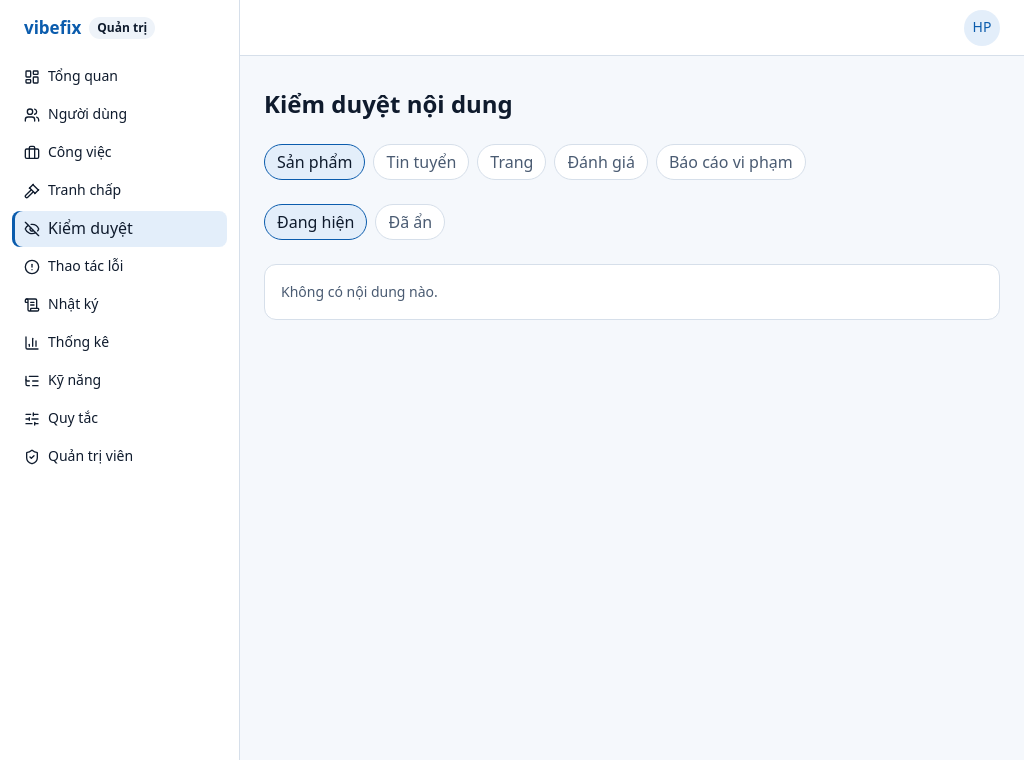
Test: ADM-6 moderation (FR-60) › works an Abuse Report on a Crew Chat message through its one-message grant
The width and height of the screenshot is (1024, 760).
Click the tab "Báo cáo vi phạm". click: [731, 162]
box: [656, 144, 806, 180]
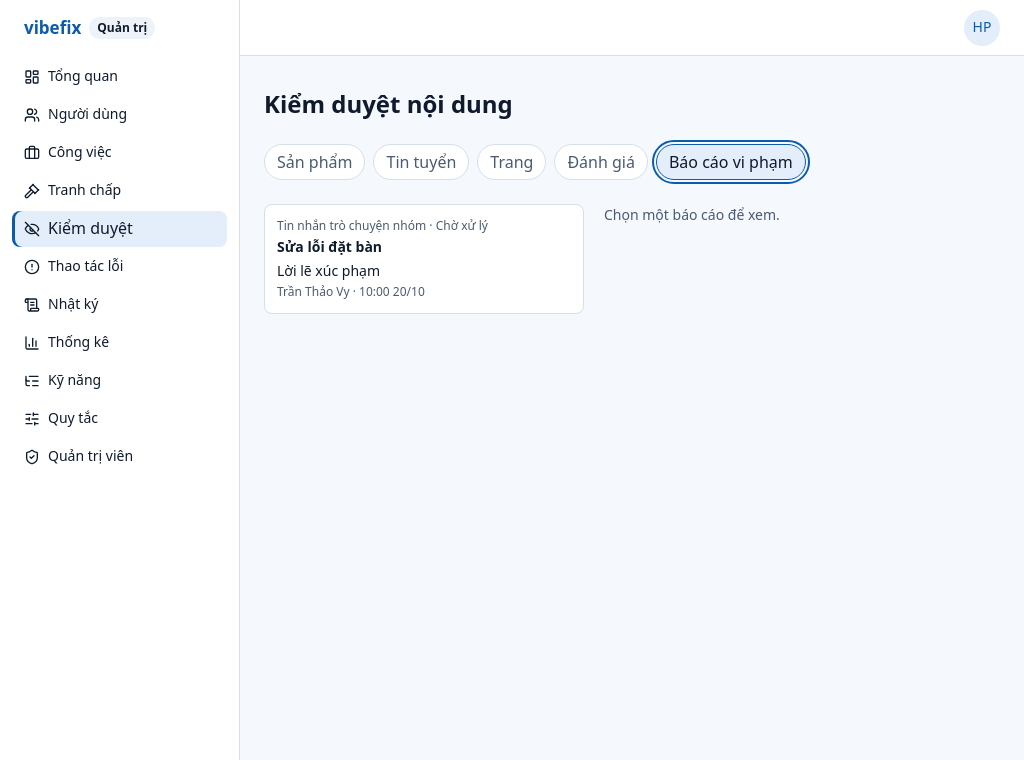
Click the button "Lời lẽ xúc phạm". click: [352, 226]
box: [264, 204, 584, 314]
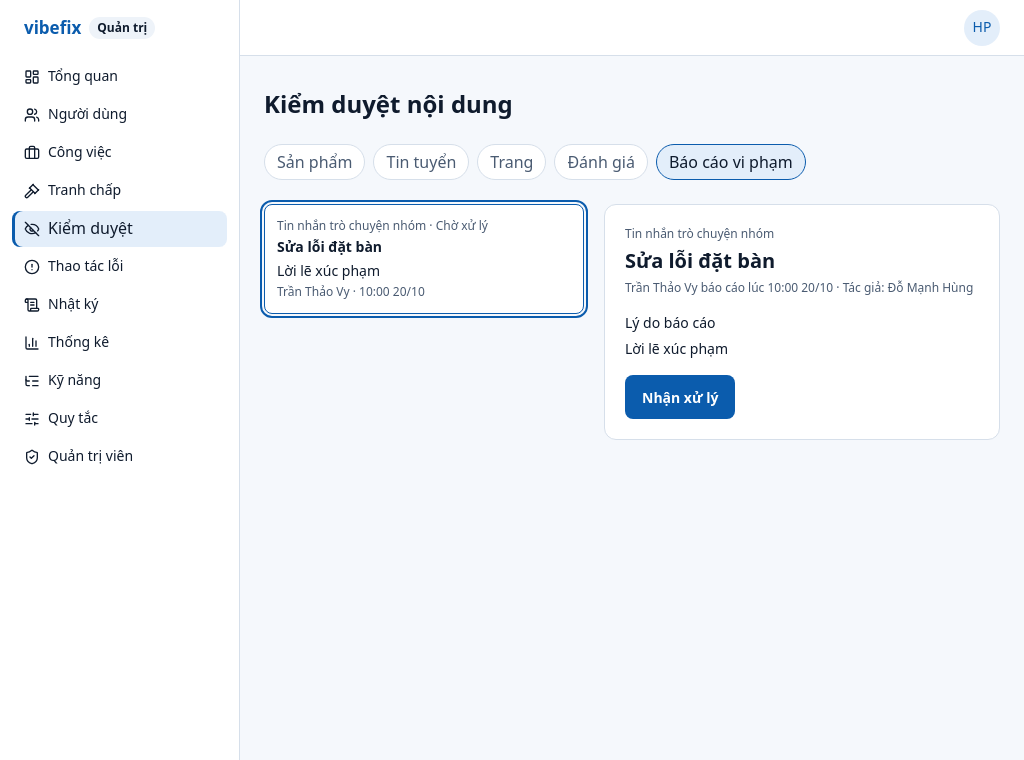
Expected: the text "Nội dung tin nhắn bị báo cáo" is not shown
Click the button "Nhận xử lý". click: [680, 397]
box: [625, 375, 736, 419]
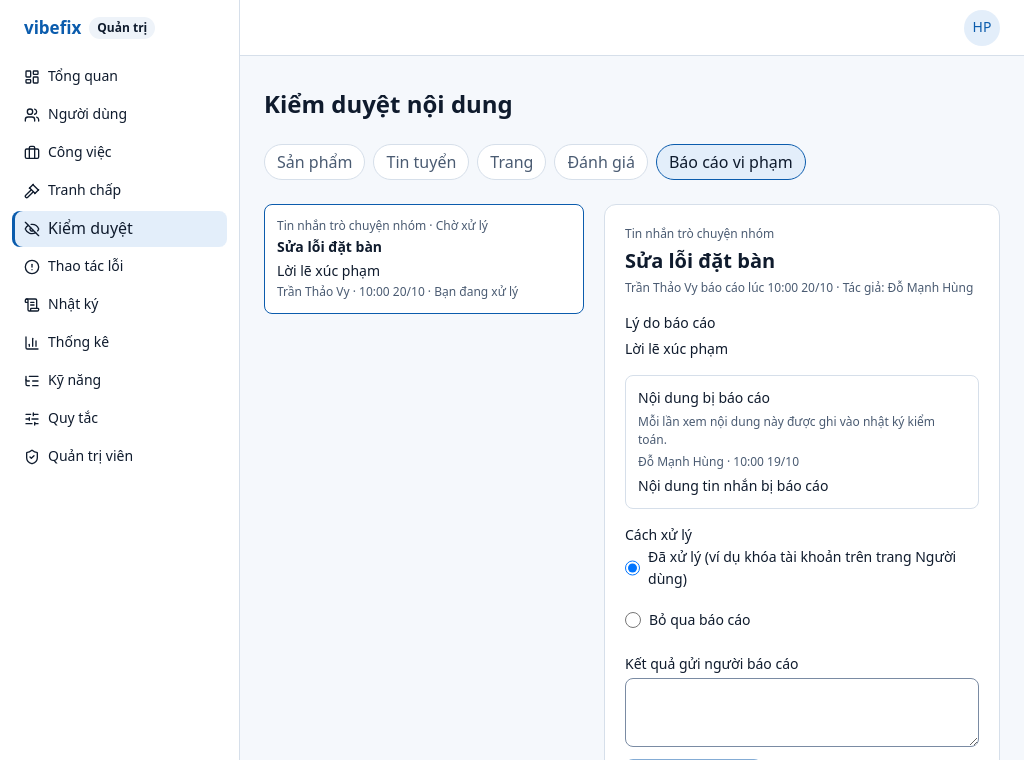
Expected: the text "Nội dung tin nhắn bị báo cáo" is shown, [638, 476, 828, 495]
Expected: the text "Mỗi lần xem nội dung này được ghi vào nhật ký kiểm toán." is shown, [638, 413, 966, 449]
Click the radio button labelled "Đã xử lý (ví dụ khóa tài khoản trên trang Người dùng)". click: [633, 568]
box: [625, 560, 640, 576]
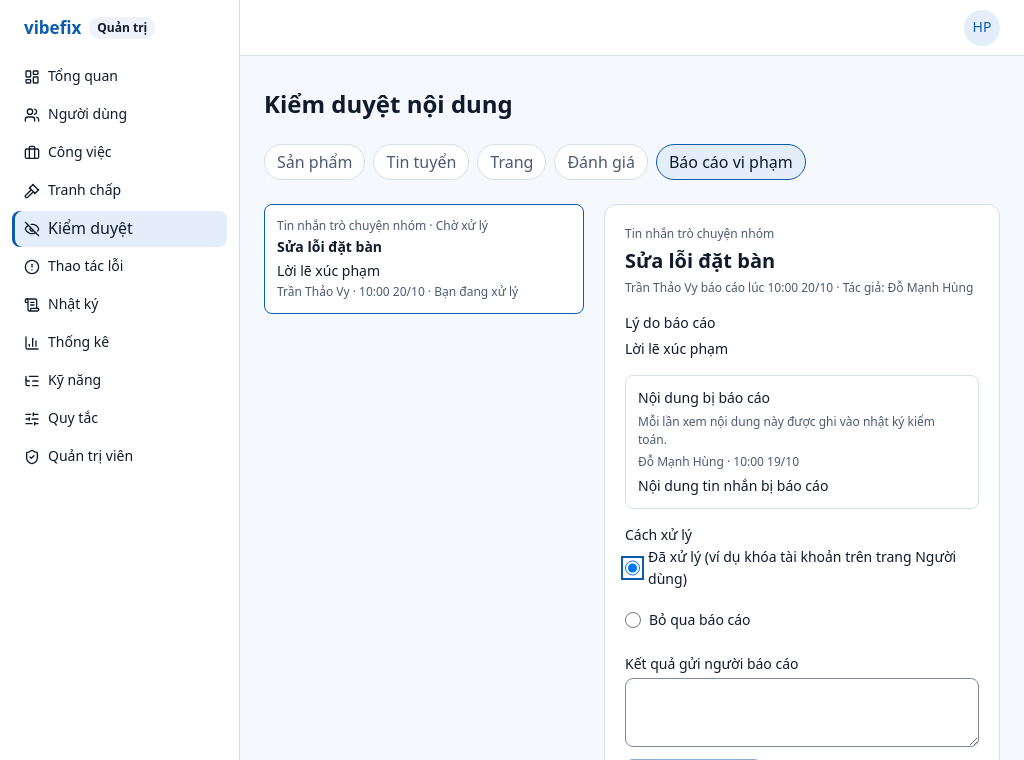
Type "Đã khóa tài khoản" into the text box labelled "Kết quả gửi người báo cáo". click: [802, 713]
box: [625, 678, 979, 747]
(page scrolled)
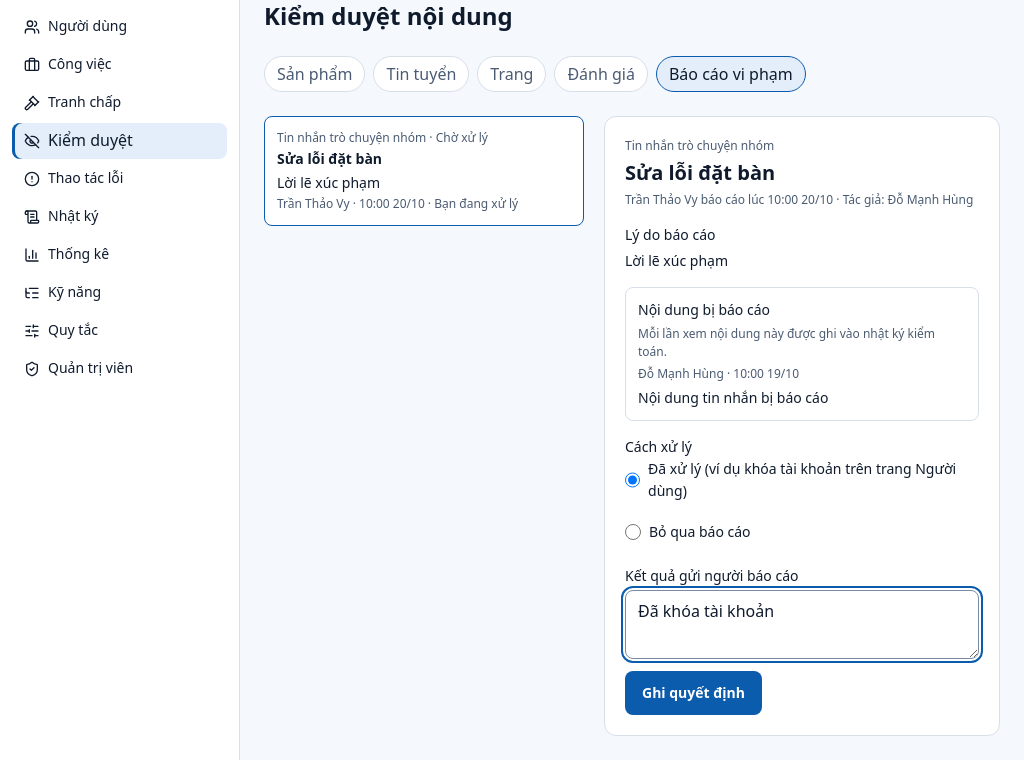
Click the button "Ghi quyết định". click: [694, 693]
box: [625, 671, 762, 715]
(page scrolled)
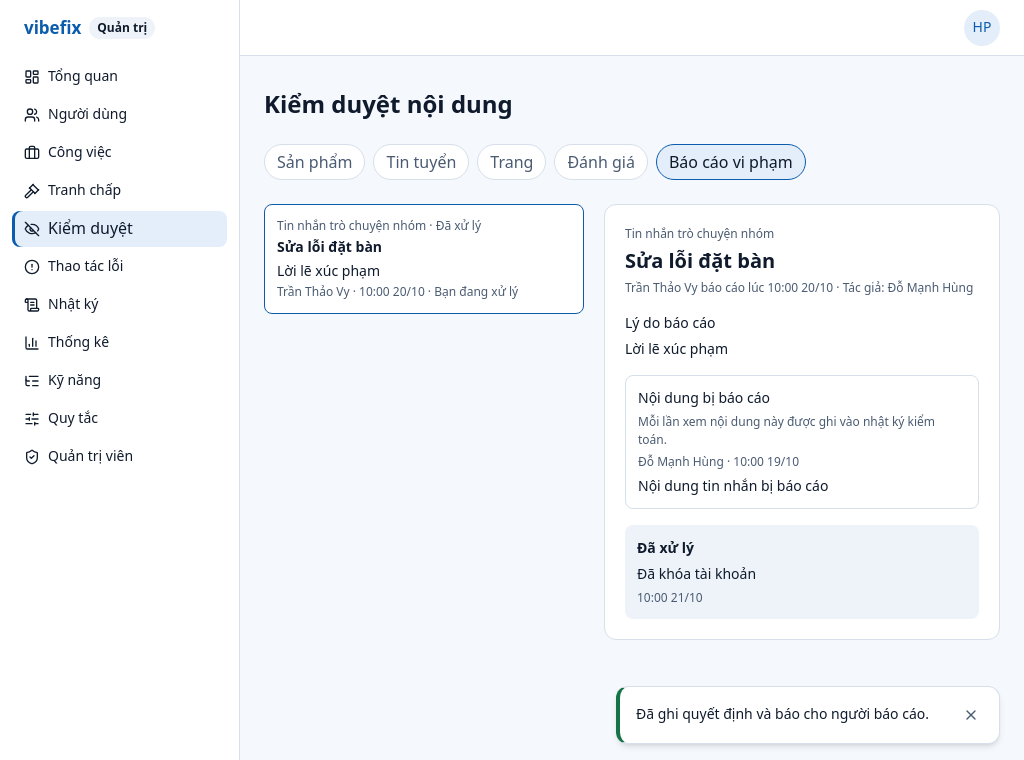
Expected: the text "Đã khóa tài khoản" is shown, [637, 564, 756, 583]
